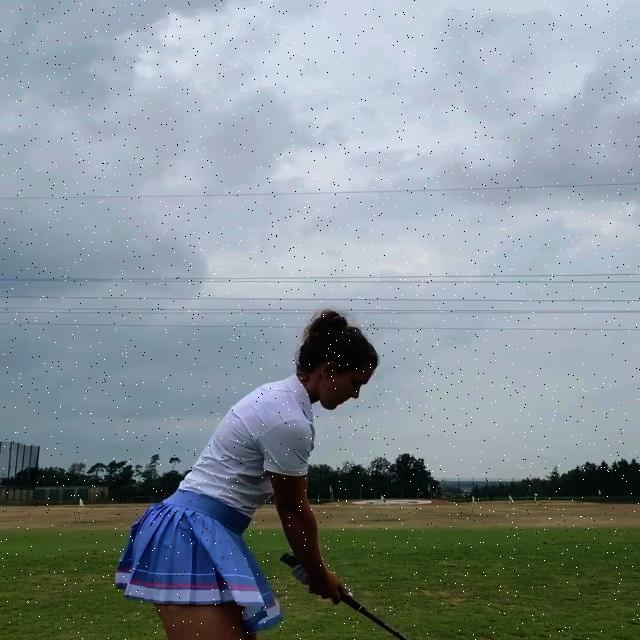golf club-handle: (281, 555, 405, 640)
